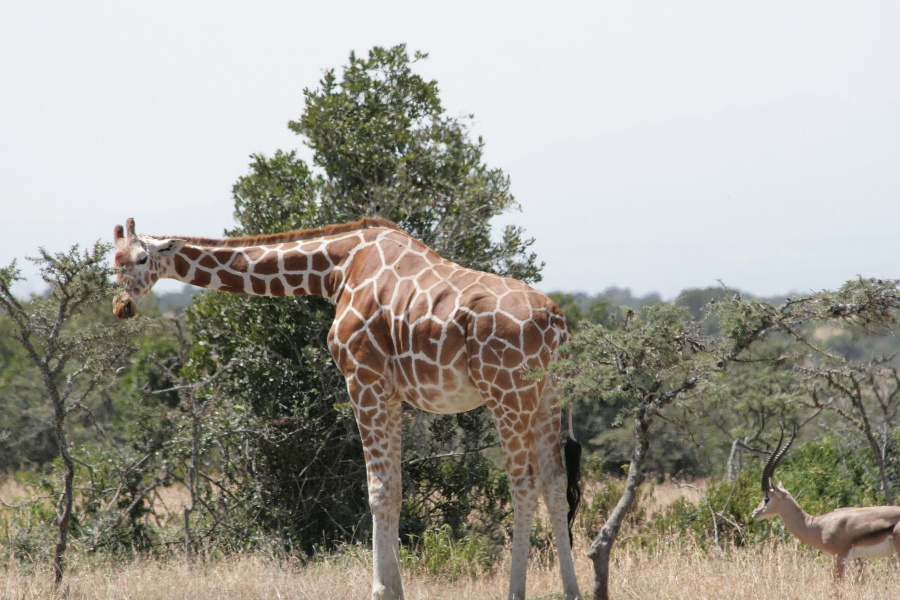giraffe: (105, 210, 594, 597)
